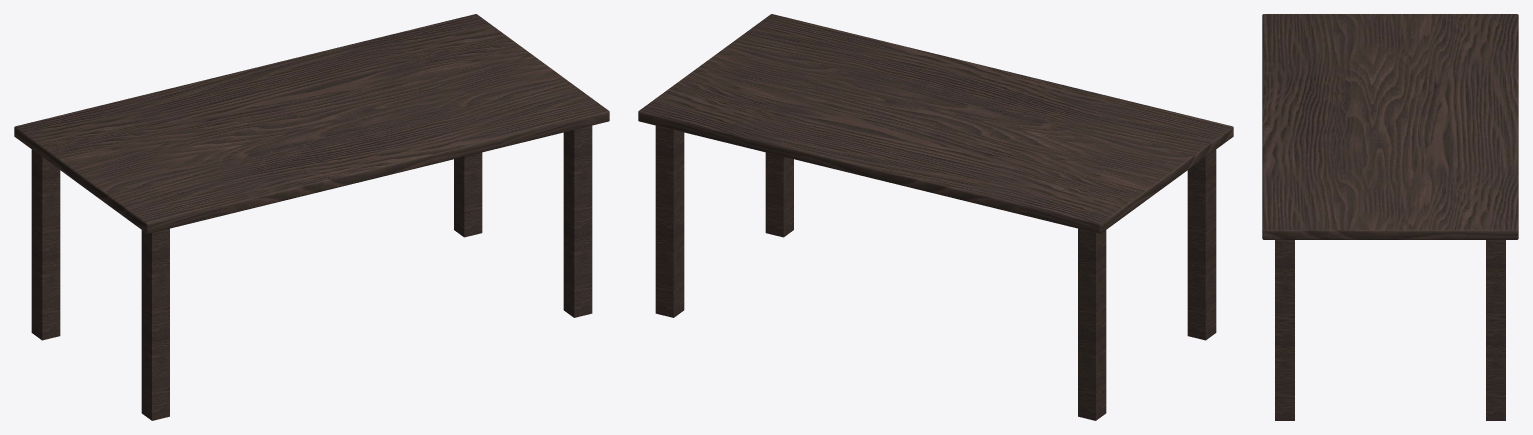
Rendered from dining_table.glb.
3 renders of one model, left to right at view 1: azimuth 30°, elevation 25°; view 2: azimuth 150°, elevation 25°; view 3: azimuth 270°, elevation 25°, orthographic. The views are drawn at different scales.
Visible parts, largest first — view 1: dining_table; view 2: dining_table; view 3: dining_table.
Boxes of the visible parts, x1,y1,x2,y2 form: dining_table: [14, 14, 609, 420]; dining_table: [638, 14, 1233, 420]; dining_table: [1262, 14, 1518, 420].
Bounding box in the file's own units: 1.8 × 0.76 × 0.9.
Materials: 1 (1 with a texture image).
